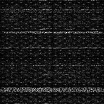lte: (1, 86, 104, 93), (1, 30, 104, 33)
